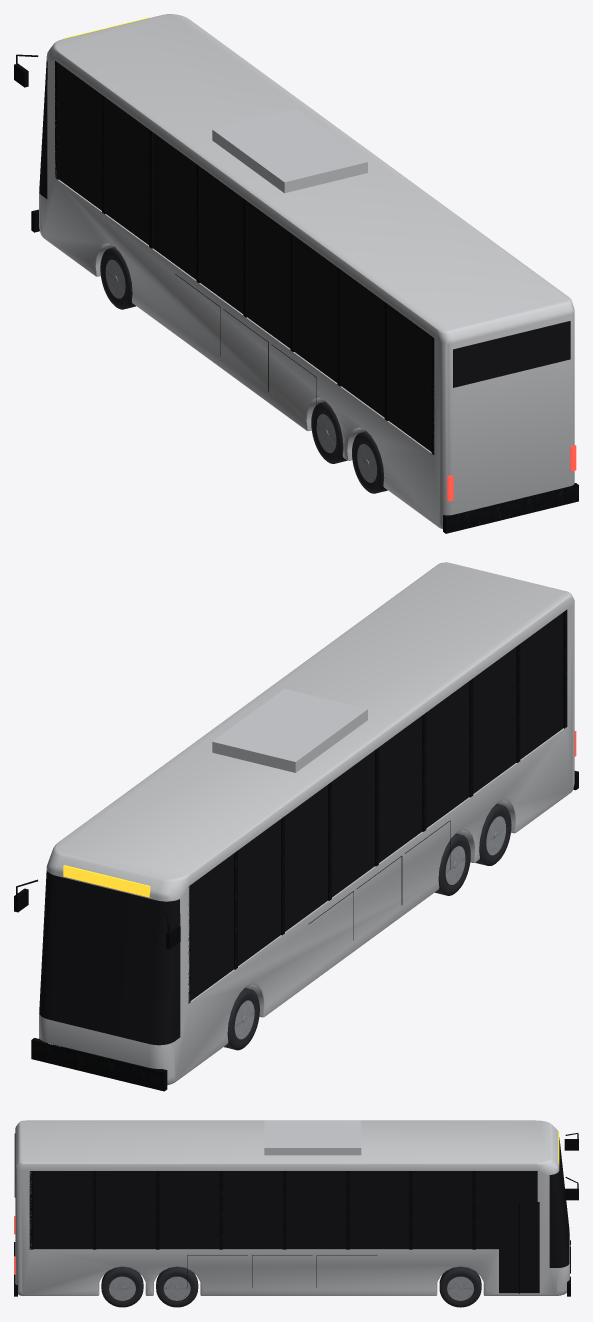
File: bus_tour_silver.gltf
3 renders of one model, top to bottom at view 1: azimuth 30°, elevation 25°; view 2: azimuth 150°, elevation 25°; view 3: azimuth 270°, elevation 25°, orthographic. The views are drawn at different scales.
Parts seen in each view (by area): view 1: bus_tour_silver; view 2: bus_tour_silver; view 3: bus_tour_silver.
Boxes of the visible parts, x1,y1,x2,y2 form: bus_tour_silver: (14, 14, 578, 533); bus_tour_silver: (14, 562, 578, 1091); bus_tour_silver: (14, 1120, 578, 1307).
Bounding box in the file's own units: 2.99 × 4.15 × 13.96.
10 materials, 4 textured.
